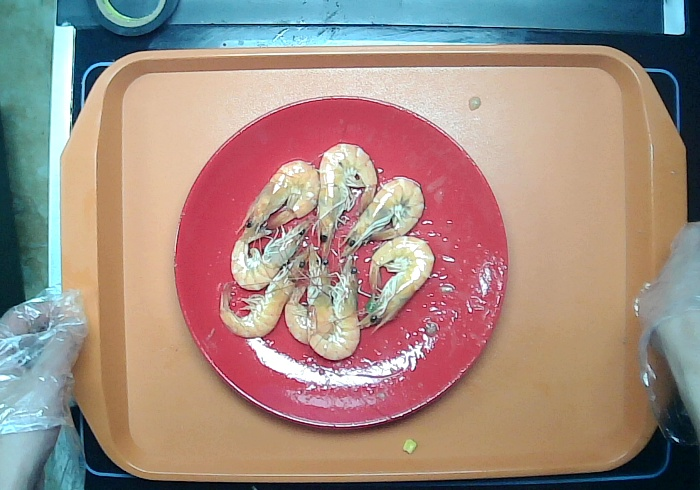HZYJPL-Hong_Se_Yuan_Pan: (171, 96, 511, 436)
